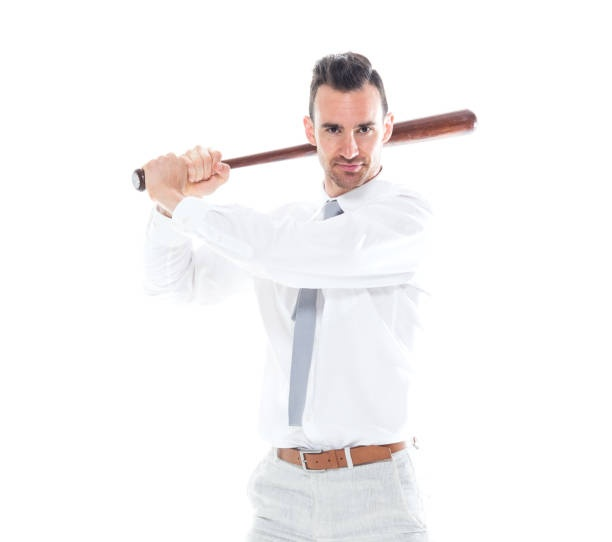bita: (132, 142, 317, 185), (385, 108, 476, 151)
